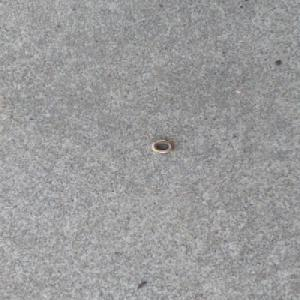Nut: (150, 139, 175, 154)
